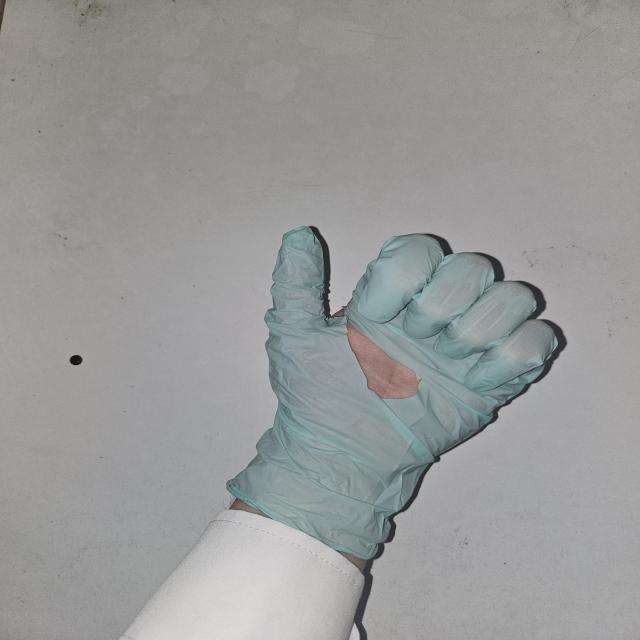gloves_damaged: (224, 224, 566, 566)
